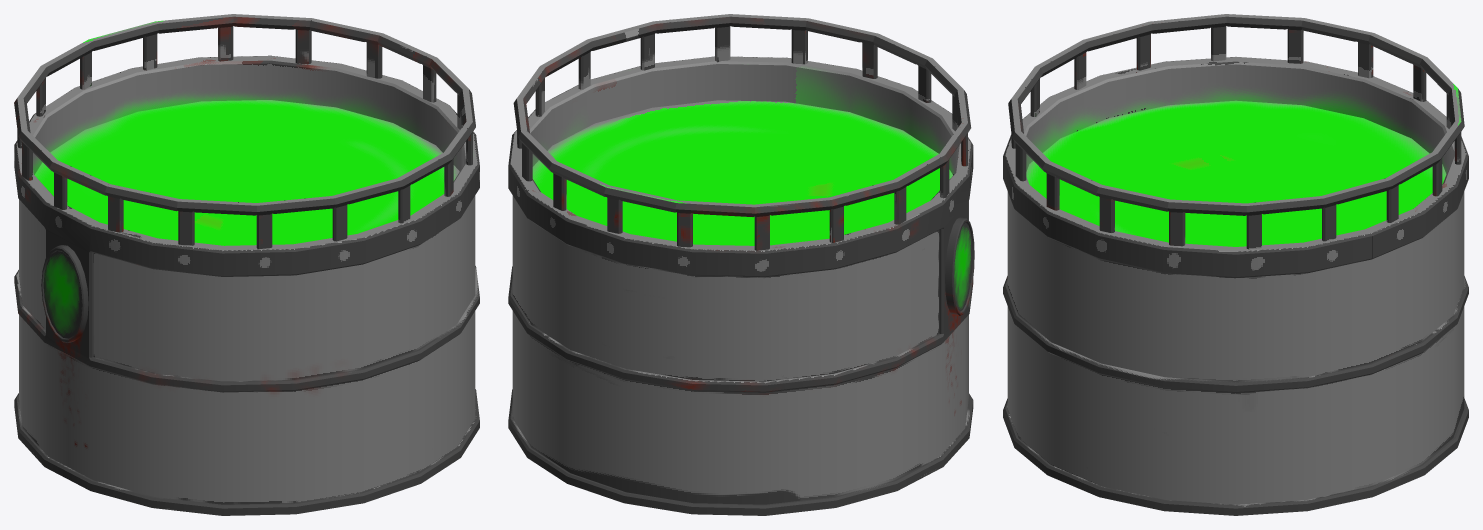
Rendered from Chemical_Large.glb.
The picture shows the model from 3 angles, left to right: view 1: azimuth 30°, elevation 25°; view 2: azimuth 150°, elevation 25°; view 3: azimuth 270°, elevation 25°; orthographic projection.
Parts seen in each view (by area): view 1: chemical_vat; view 2: chemical_vat; view 3: chemical_vat.
Boxes of the visible parts, x1,y1,x2,y2 form: chemical_vat: [14, 14, 479, 515]; chemical_vat: [508, 14, 974, 515]; chemical_vat: [1003, 14, 1468, 515].
Size of the model in its own units: 6.01 by 4.29 by 5.91.
Materials: 1 (1 with a texture image).
